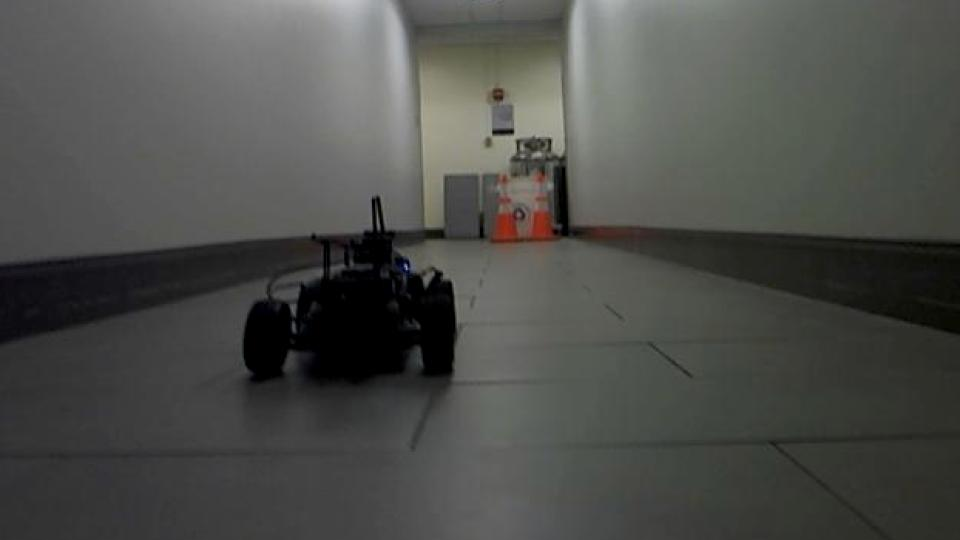car: (239, 193, 463, 382)
